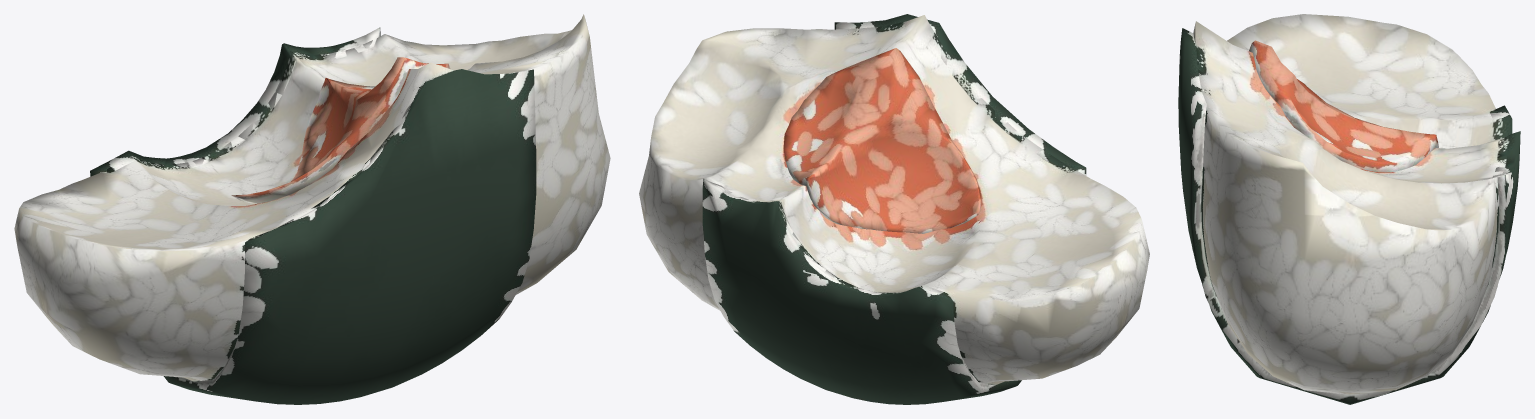
Rendered from onigiri_salmon_b2.glb.
The picture shows the model from 3 angles, left to right: view 1: azimuth 30°, elevation 25°; view 2: azimuth 150°, elevation 25°; view 3: azimuth 270°, elevation 25°; orthographic projection. The views are drawn at different scales.
Parts seen in each view (by area): view 1: prop_onigiri_salmon_b2_felt; view 2: prop_onigiri_salmon_b2_felt; view 3: prop_onigiri_salmon_b2_felt.
Part boxes in pixels (<box>): prop_onigiri_salmon_b2_felt: <box>14,14,610,404</box>; prop_onigiri_salmon_b2_felt: <box>639,14,1149,404</box>; prop_onigiri_salmon_b2_felt: <box>1178,14,1520,404</box>.
Bounding box in the file's own units: 0.1259 × 0.0815 × 0.0674.
1 material, 1 textured.
